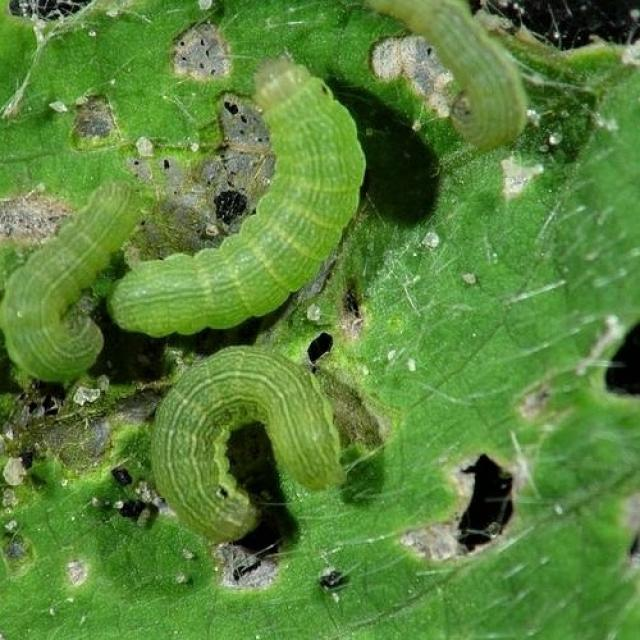armyworm: (106, 54, 366, 338)
